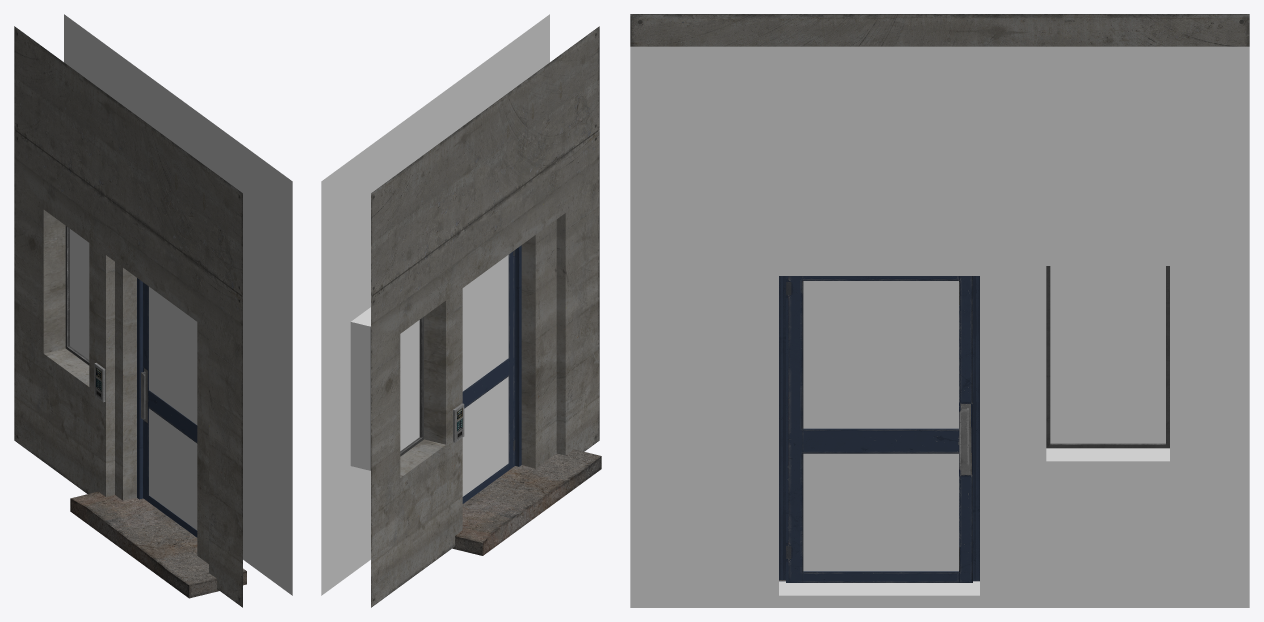
File: CP_Wall_Entry_IN_03.fbx
The picture shows the model from 3 angles, left to right: view 1: azimuth 30°, elevation 25°; view 2: azimuth 150°, elevation 25°; view 3: azimuth 270°, elevation 25°; orthographic projection. The views are drawn at different scales.
Visible parts, largest first — view 1: CP_Wall_Entry_IN_03, CP_Door_03; view 2: CP_Wall_Entry_IN_03, CP_Door_03; view 3: CP_Wall_Entry_IN_03, CP_Door_03.
Boxes of the visible parts, left/top/right/bottom form: CP_Wall_Entry_IN_03: left=14, top=14, right=292, bottom=607; CP_Door_03: left=141, top=282, right=197, bottom=537; CP_Wall_Entry_IN_03: left=321, top=14, right=601, bottom=607; CP_Door_03: left=462, top=250, right=515, bottom=503; CP_Wall_Entry_IN_03: left=630, top=14, right=1249, bottom=607; CP_Door_03: left=786, top=276, right=972, bottom=582.
Bounding box in the file's own units: 78.2 × 403 × 400.
